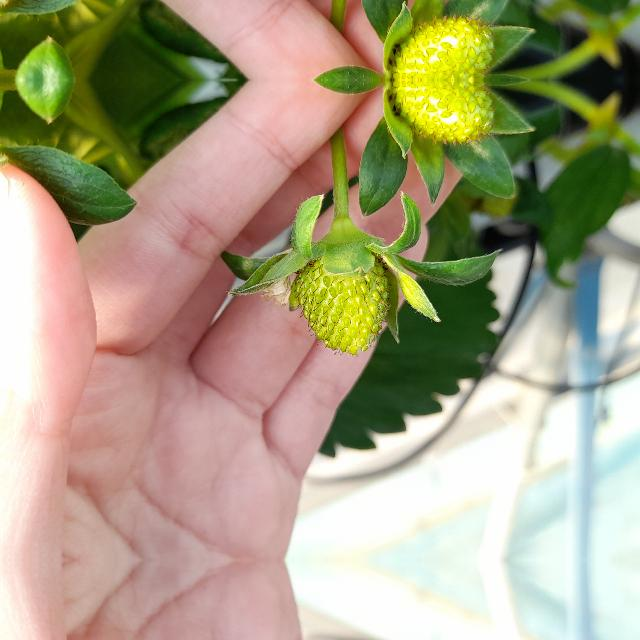Health_25: (293, 252, 392, 356), (382, 80, 500, 142), (382, 18, 500, 80)
